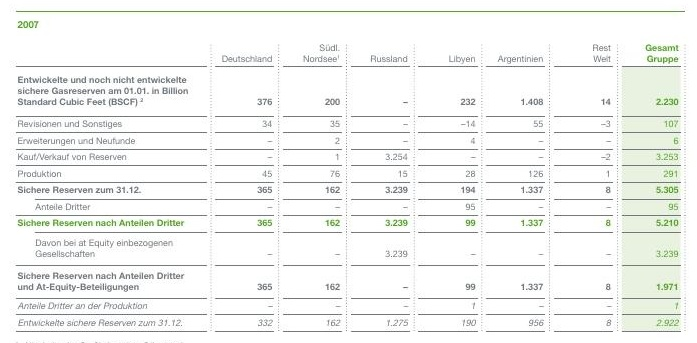table: (0, 0, 697, 343)
